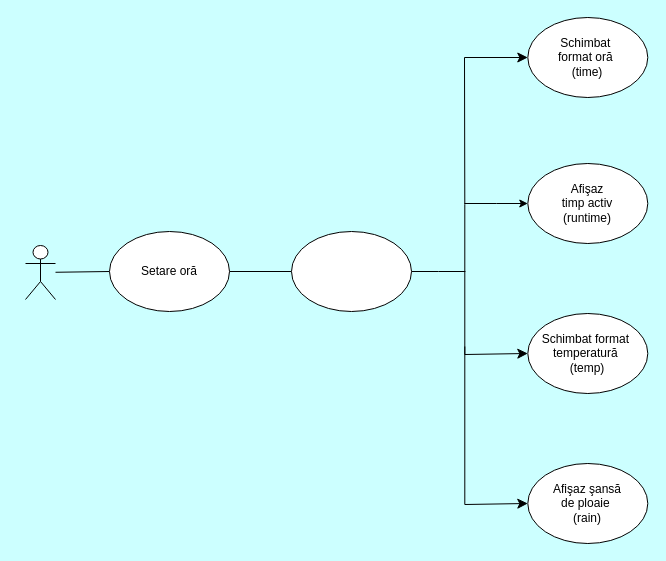
Image size: 666x561. Some labels were removed from this diagram. The centre of each missing label's shape, as x and y in pixels:
"Alegere comandă" belongs at (x=351, y=271).
"Utilizator" belongs at (x=40, y=272).
